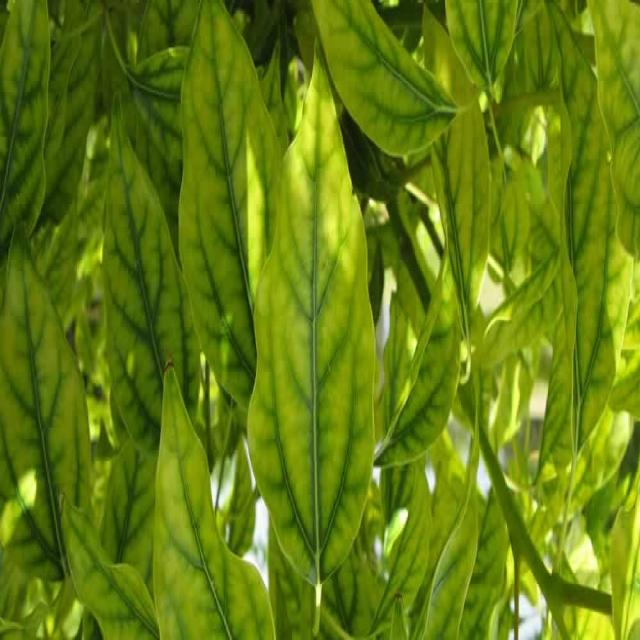Chlorosis: (3, 8, 640, 640)
